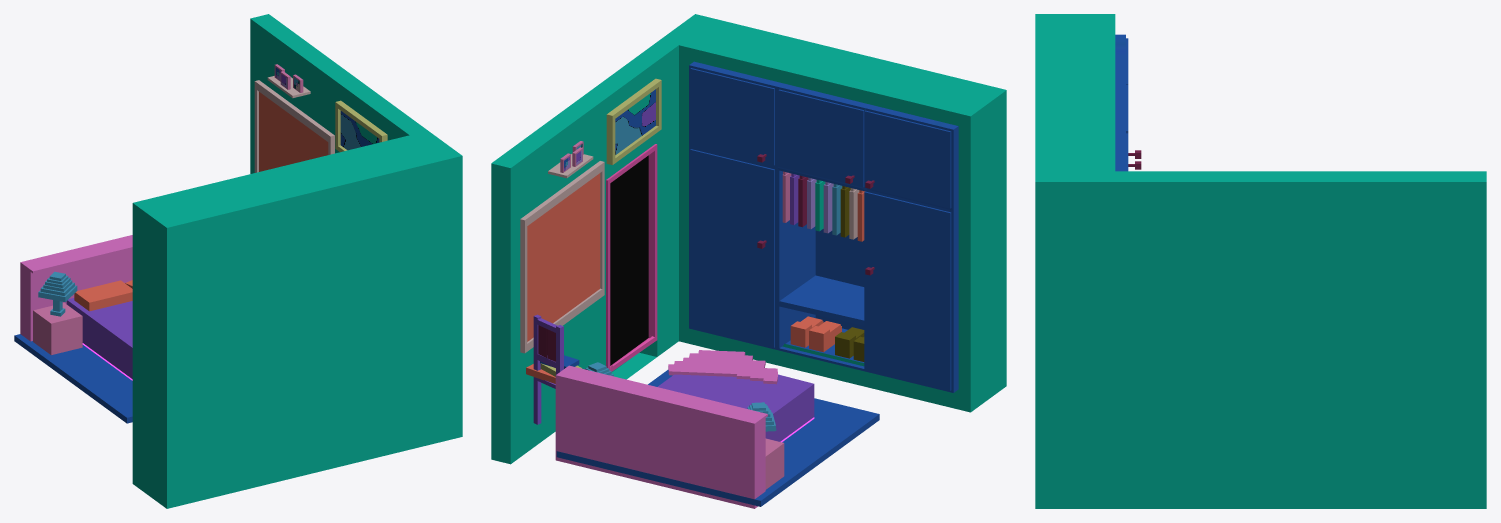
The model's file is Side1 Room.fbx.
The picture shows the model from 3 angles, left to right: view 1: azimuth 30°, elevation 25°; view 2: azimuth 150°, elevation 25°; view 3: azimuth 270°, elevation 25°; orthographic projection. The views are drawn at different scales.
Visible parts, largest first — view 1: Side2, Bed, Side2.002; view 2: Side2, Bed, Side2.002, chair, Bed.001; view 3: Side2.
Part boxes in pixels (<box>): Side2: <box>132,14,462,508</box>; Bed: <box>14,235,132,423</box>; Side2.002: <box>254,80,334,172</box>; Side2: <box>491,14,1006,464</box>; Bed: <box>555,350,879,508</box>; Side2.002: <box>520,161,604,353</box>; chair: <box>533,314,563,424</box>; Bed.001: <box>526,355,581,383</box>; Side2: <box>1035,14,1486,508</box>.
Bounding box in the file's own units: 213 × 193 × 241.
